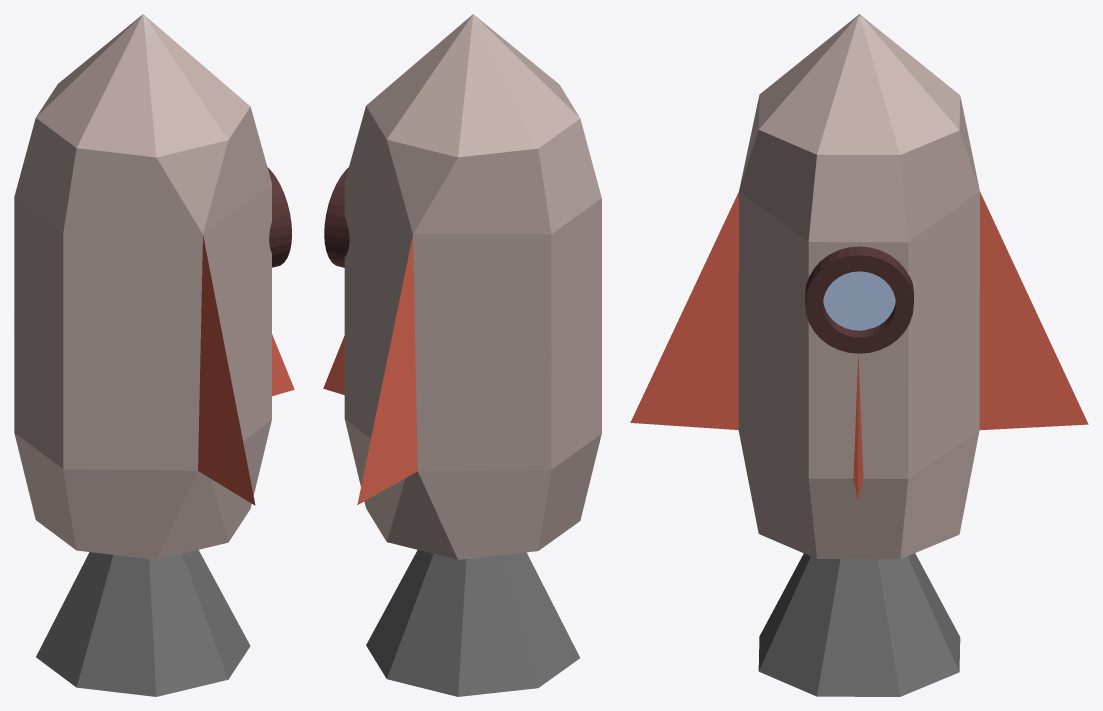
File: rocket.glb
3 views of the same model, side by side, from view 1: azimuth 30°, elevation 25°; view 2: azimuth 150°, elevation 25°; view 3: azimuth 270°, elevation 25° (orthographic).
Parts seen in each view (by area): view 1: Cylinder; view 2: Cylinder; view 3: Cylinder.
Part boxes in pixels (x1,y1,x2,y2): Cylinder: [14, 14, 294, 696]; Cylinder: [323, 14, 601, 696]; Cylinder: [630, 14, 1088, 696].
Bounding box in the file's own units: 5.44 × 13 × 8.43.
Materials: 2 (2 with a texture image).
